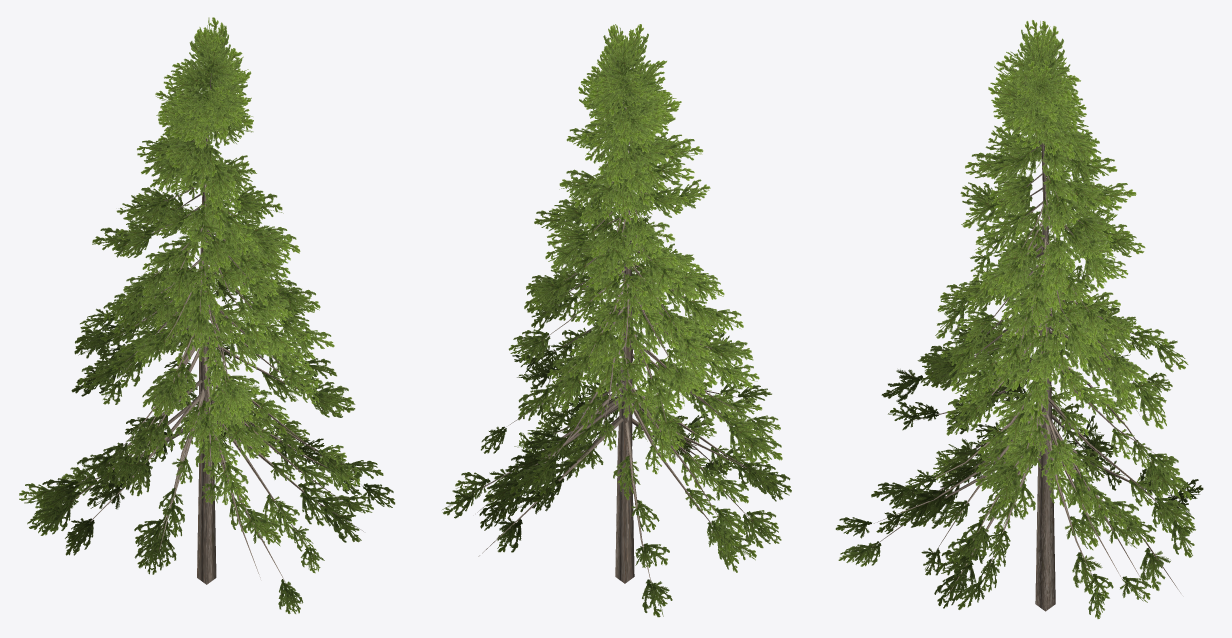
The model's file is pine_large_a.glb.
3 views of the same model, side by side, from view 1: azimuth 30°, elevation 25°; view 2: azimuth 150°, elevation 25°; view 3: azimuth 270°, elevation 25° (orthographic). The views are drawn at different scales.
Parts seen in each view (by area): view 1: leaves, trunk; view 2: leaves, trunk; view 3: leaves, trunk.
Part boxes in pixels (left/top/right/bottom): leaves: left=19, top=17, right=395, bottom=613; trunk: left=72, top=73, right=363, bottom=584; leaves: left=442, top=24, right=791, bottom=617; trunk: left=471, top=102, right=777, bottom=586; leaves: left=835, top=20, right=1203, bottom=618; trunk: left=872, top=141, right=1180, bottom=611.
Size of the model in its own units: 10.03 by 17 by 10.12.
2 materials, 2 textured.
